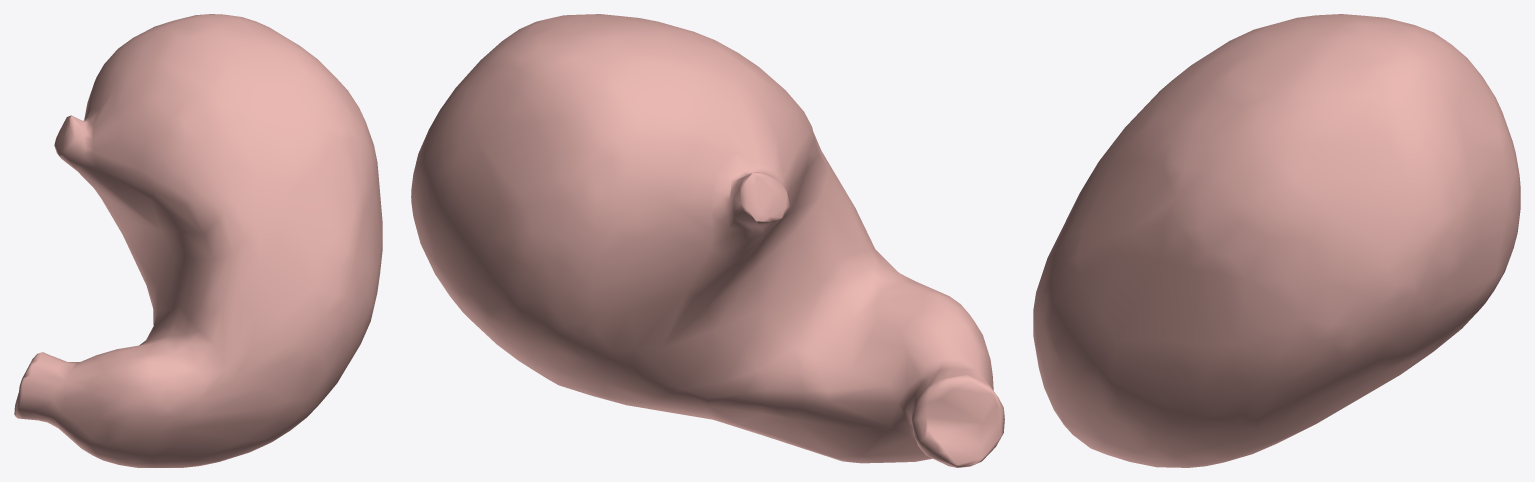
Rendered from stomach.glb.
The picture shows the model from 3 angles, left to right: view 1: azimuth 30°, elevation 25°; view 2: azimuth 150°, elevation 25°; view 3: azimuth 270°, elevation 25°; orthographic projection. The views are drawn at different scales.
Visible parts, largest first — view 1: Stomach_FJ2564; view 2: Stomach_FJ2564; view 3: Stomach_FJ2564.
Part boxes in pixels (bbox=[...]): Stomach_FJ2564: bbox=[14, 14, 382, 467]; Stomach_FJ2564: bbox=[411, 14, 1004, 467]; Stomach_FJ2564: bbox=[1033, 14, 1520, 467].
Bounding box in the file's own units: 0.1343 × 0.117 × 0.1129.
